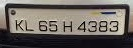numberplate: (6, 4, 126, 39)
